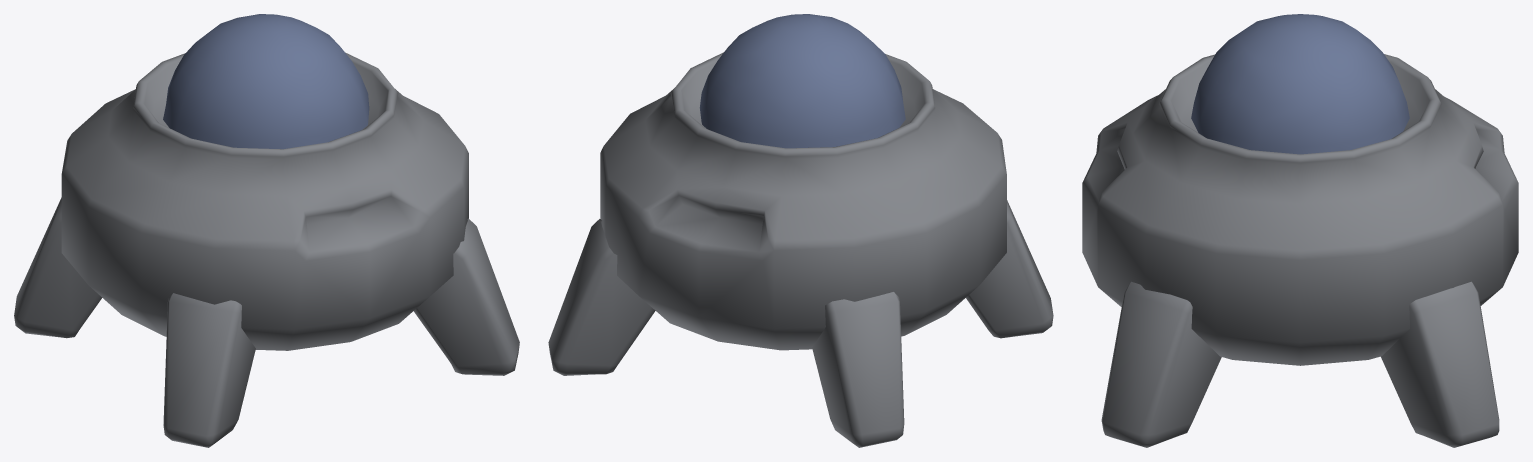
File: shadow_generator.glb
The picture shows the model from 3 angles, left to right: view 1: azimuth 30°, elevation 25°; view 2: azimuth 150°, elevation 25°; view 3: azimuth 270°, elevation 25°; orthographic projection. The views are drawn at different scales.
Parts seen in each view (by area): view 1: shadow_generator; view 2: shadow_generator; view 3: shadow_generator.
Part boxes in pixels (x1,y1,x2,y2): shadow_generator: (14, 14, 519, 447); shadow_generator: (548, 14, 1053, 447); shadow_generator: (1082, 14, 1518, 447).
Size of the model in its own units: 0.1201 by 0.1045 by 0.1221.
